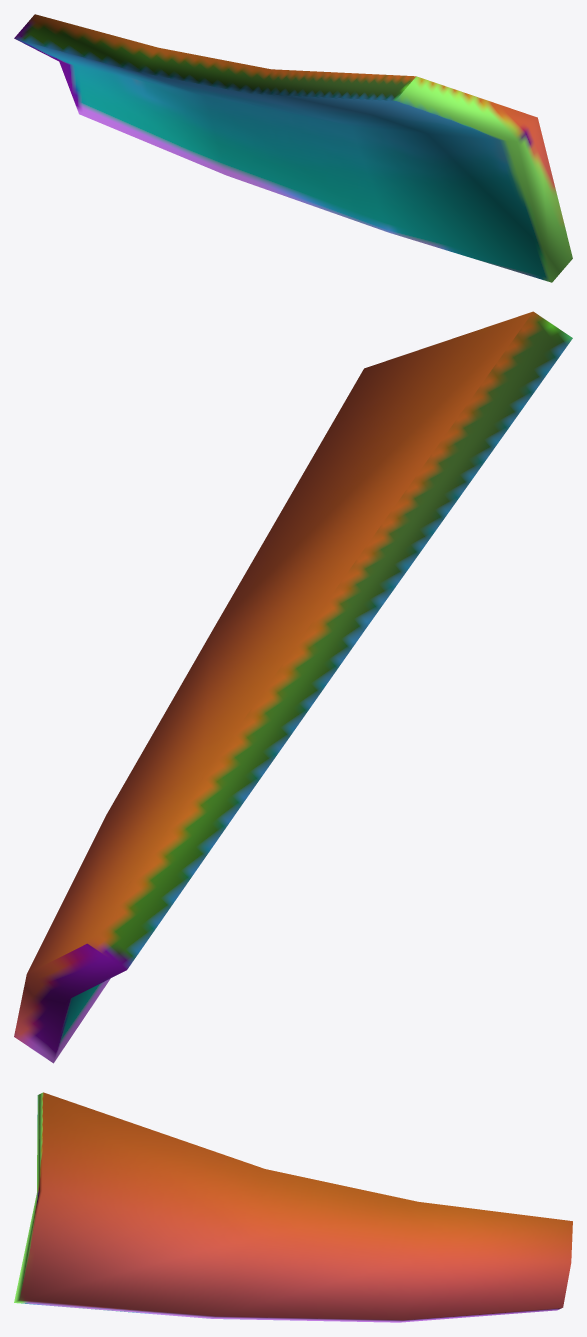
File: ElipAla1.obj
The picture shows the model from 3 angles, top to bottom: view 1: azimuth 30°, elevation 25°; view 2: azimuth 150°, elevation 25°; view 3: azimuth 270°, elevation 25°; orthographic projection. The views are drawn at different scales.
Parts seen in each view (by area): view 1: Sphere.010_Sphere.008; view 2: Sphere.010_Sphere.008; view 3: Sphere.010_Sphere.008.
Boxes of the visible parts, box(x1,y1,x2,y2) form: Sphere.010_Sphere.008: box(14, 14, 572, 282); Sphere.010_Sphere.008: box(14, 311, 572, 1063); Sphere.010_Sphere.008: box(14, 1092, 572, 1322).
Size of the model in its own units: 0.3556 by 0.4926 by 1.15.
